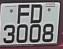0: (15, 23, 30, 45), (29, 22, 43, 45)
3: (1, 24, 17, 44)
8: (42, 22, 55, 45)
D: (29, 4, 45, 24)
F: (15, 4, 31, 24)
